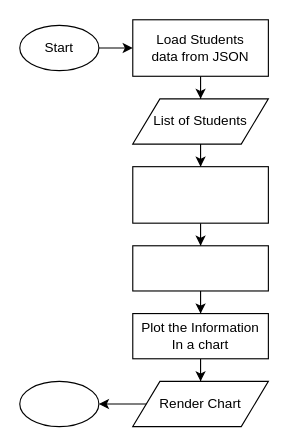
This 288x446 diagram has some shape labels left out. Here are the shapes that lost their labels. From the top down, the centre of each, then its label:
the point at 200,194: Group The students By their Course Enrolled
the point at 200,268: Count The Students in each Course
the point at 59,403: Stop
